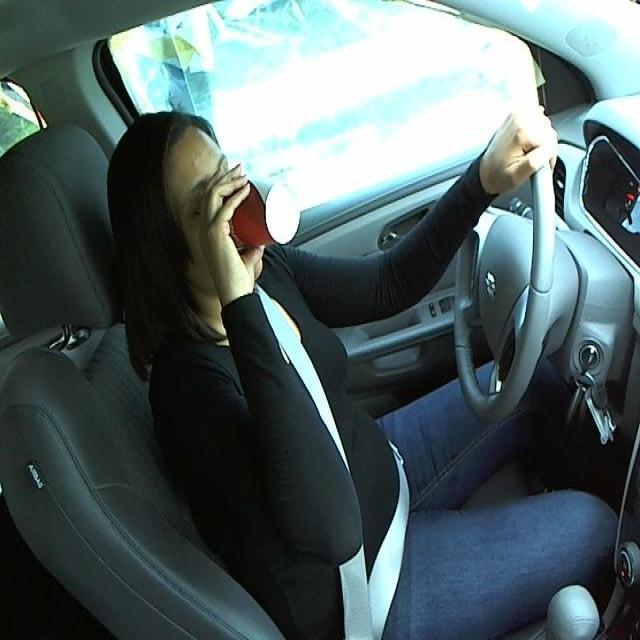Seatbelt: (208, 156, 301, 247)
